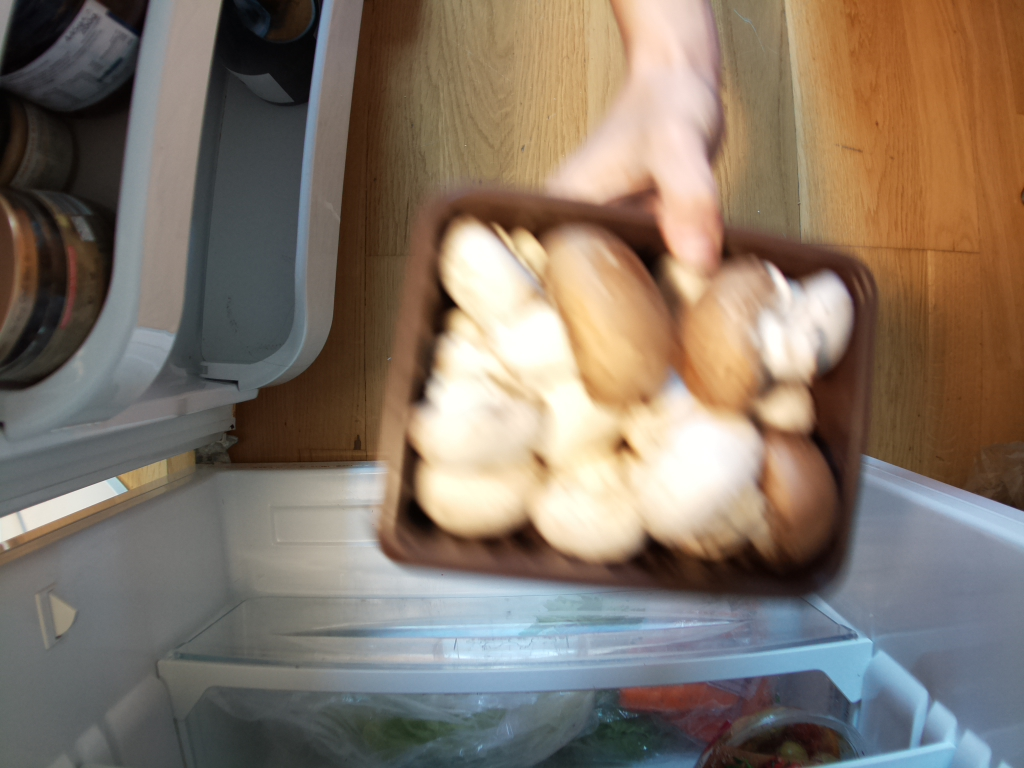mushrooms: (373, 188, 869, 604)
